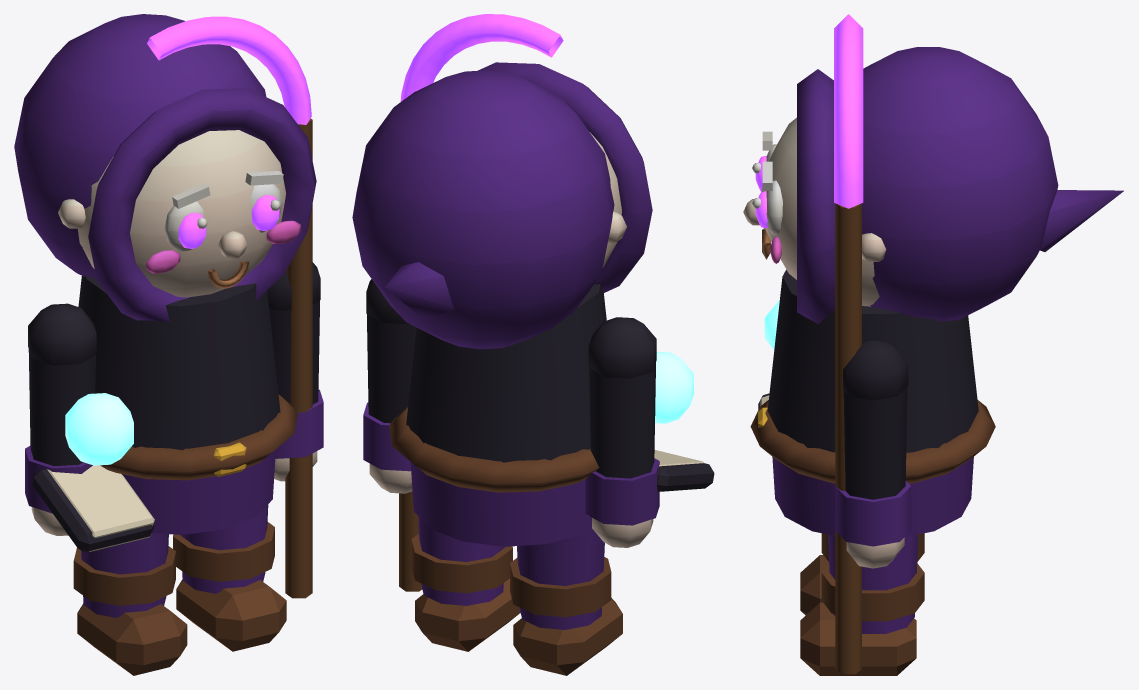
File: hero_mordecai.glb
The picture shows the model from 3 angles, left to right: view 1: azimuth 30°, elevation 25°; view 2: azimuth 150°, elevation 25°; view 3: azimuth 270°, elevation 25°; orthographic projection.
Parts seen in each view (by area): view 1: body_t0_palette, arml_t0_palette, armr_t0_palette, legl_t0_palette, legr_t0_palette, armr_t0_shadow_glow, arml_t0_rune, body_t0_shadow_glow; view 2: body_t0_palette, arml_t0_palette, legl_t0_palette, legr_t0_palette, armr_t0_palette, armr_t0_shadow_glow, arml_t0_rune; view 3: body_t0_palette, armr_t0_palette, legr_t0_palette, armr_t0_shadow_glow, legl_t0_palette.
Part boxes in pixels (x1,y1,x2,y2): body_t0_palette: [14, 14, 316, 534]; arml_t0_palette: [25, 303, 154, 551]; armr_t0_palette: [267, 118, 323, 598]; legl_t0_palette: [73, 533, 187, 675]; legr_t0_palette: [173, 504, 286, 651]; armr_t0_shadow_glow: [147, 16, 311, 124]; arml_t0_rune: [65, 393, 133, 465]; body_t0_shadow_glow: [178, 194, 279, 248]; body_t0_palette: [352, 62, 652, 546]; arml_t0_palette: [585, 317, 714, 547]; legl_t0_palette: [510, 515, 622, 675]; legr_t0_palette: [411, 517, 520, 651]; armr_t0_palette: [363, 279, 422, 591]; armr_t0_shadow_glow: [400, 14, 563, 101]; arml_t0_rune: [655, 351, 693, 423]; body_t0_palette: [743, 47, 1123, 536]; armr_t0_palette: [835, 203, 911, 674]; legr_t0_palette: [800, 534, 924, 675]; armr_t0_shadow_glow: [834, 14, 863, 208]; legl_t0_palette: [800, 533, 924, 615].
Bounding box in the file's own units: 0.274 × 0.557 × 0.3112.
